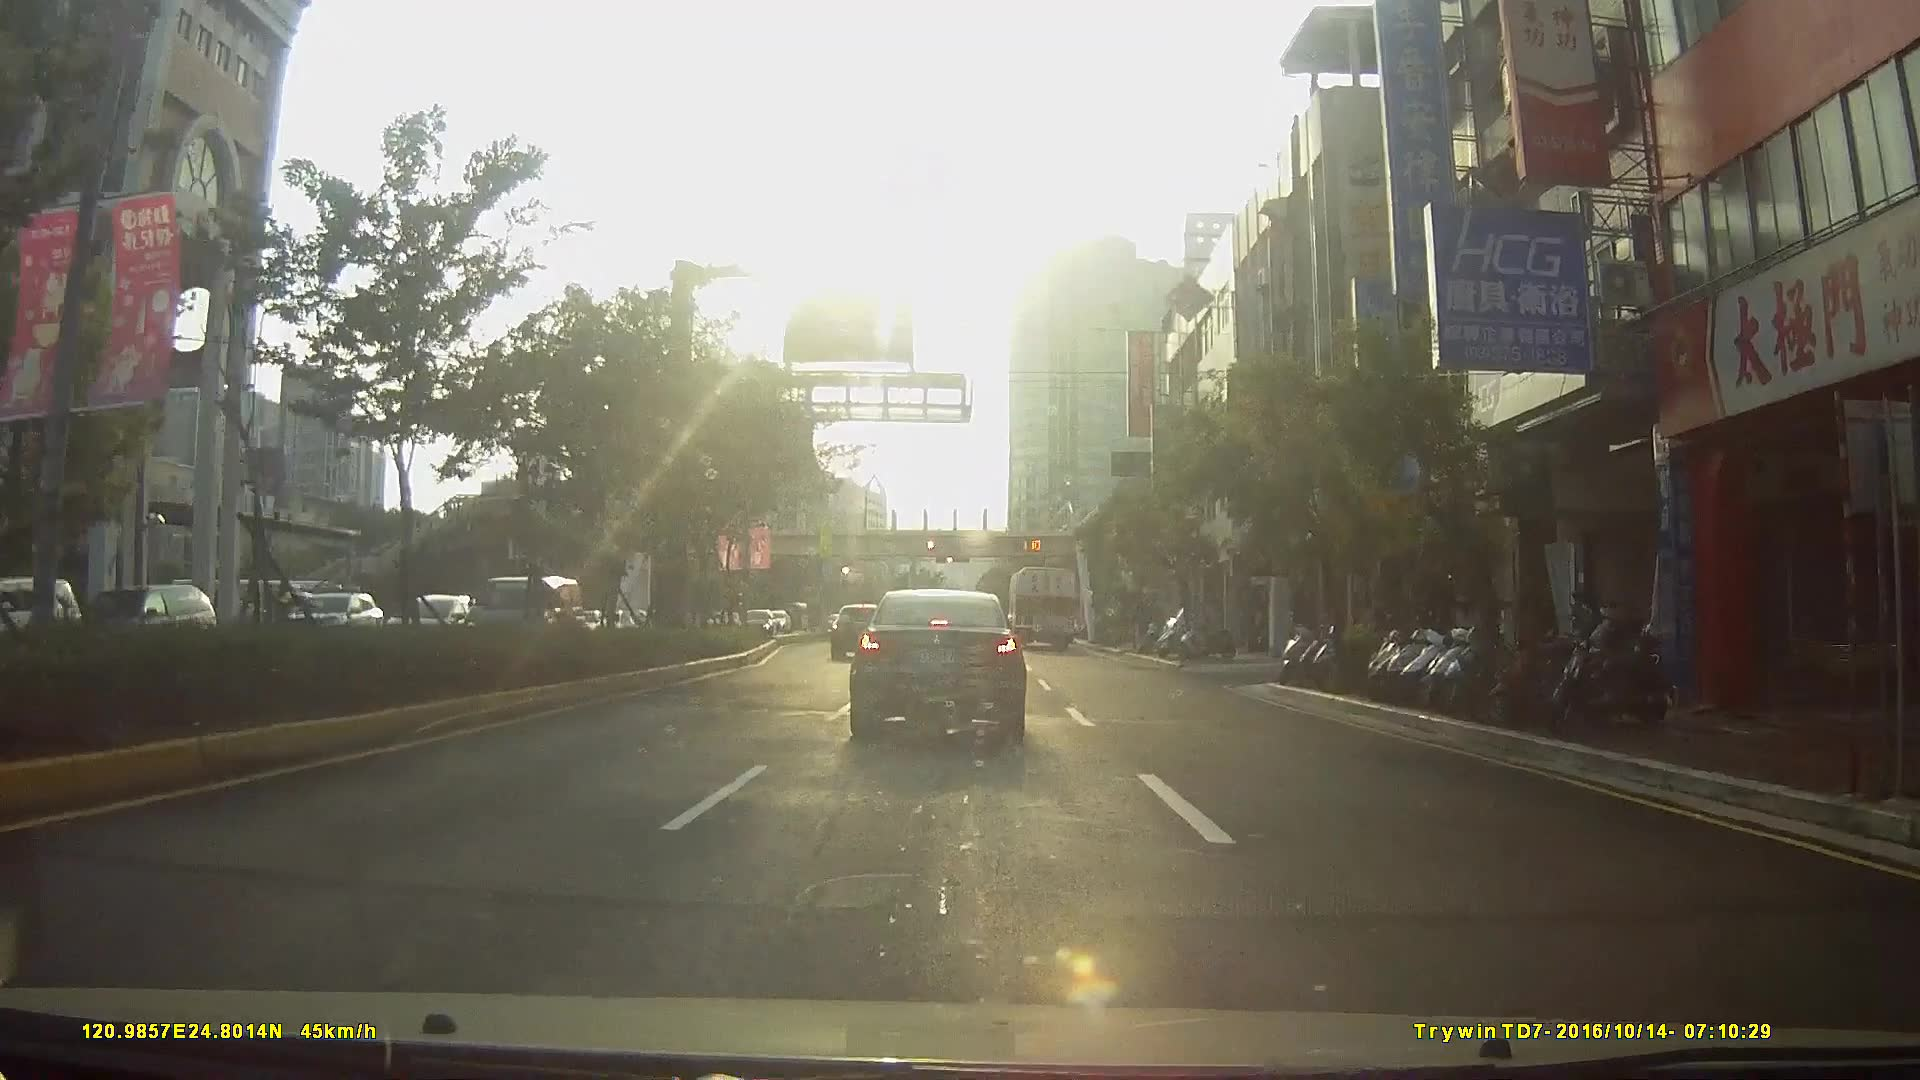vehicle: (848, 585, 1027, 745), (70, 583, 210, 658), (463, 576, 589, 647), (1004, 563, 1079, 651), (0, 578, 73, 653), (827, 601, 887, 659), (735, 609, 774, 642)
